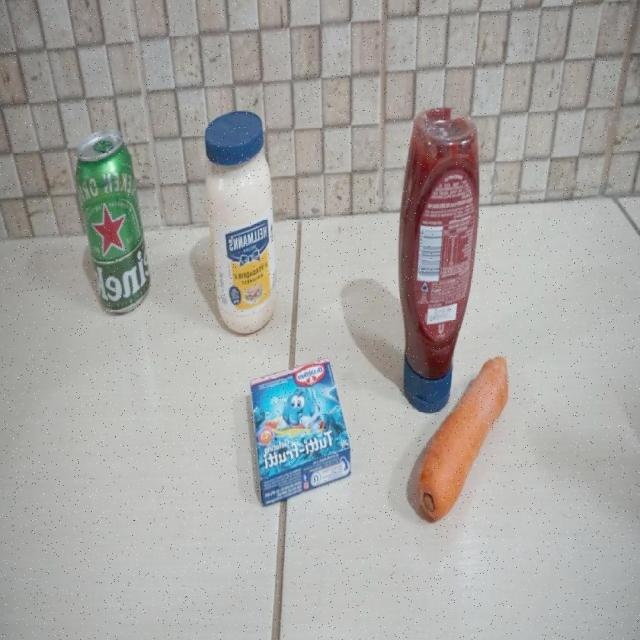BeerCan: (75, 128, 152, 317)
Carrot: (416, 354, 510, 525)
Gelatine: (248, 358, 353, 508)
Ketchup: (396, 106, 479, 411)
Mayonnaise: (204, 109, 278, 337)
